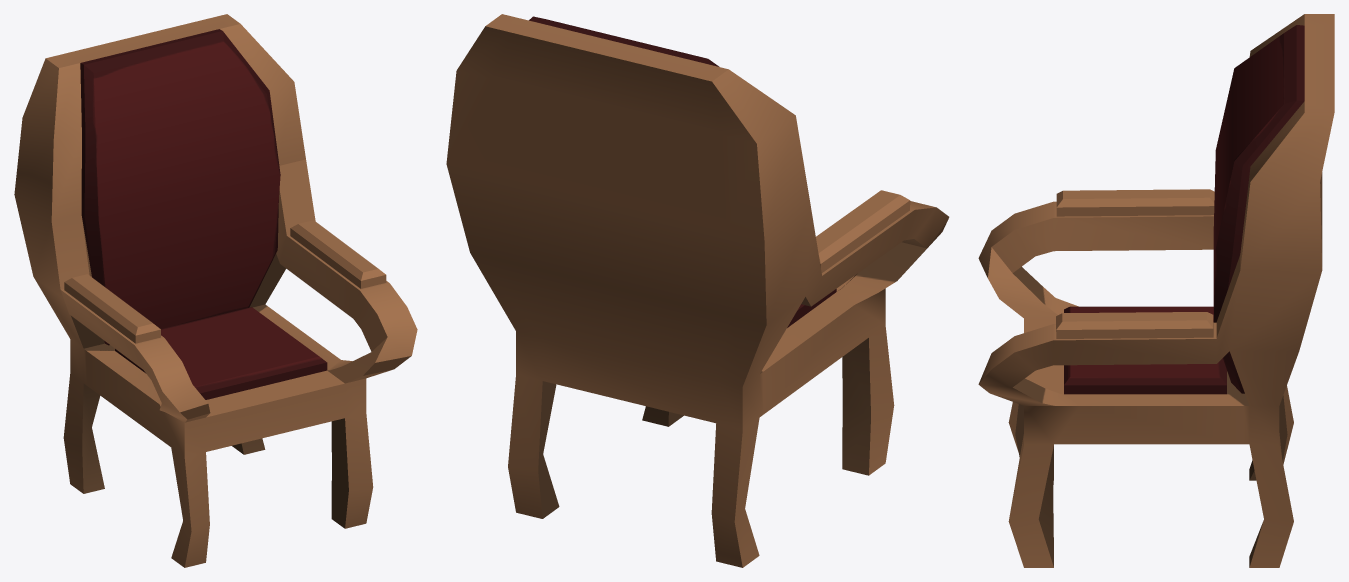
File: Chair_Style_Unwrapped.FBX
3 views of the same model, side by side, from view 1: azimuth 30°, elevation 25°; view 2: azimuth 150°, elevation 25°; view 3: azimuth 270°, elevation 25° (orthographic). The views are drawn at different scales.
Visible parts, largest first — view 1: Chair_2; view 2: Chair_2; view 3: Chair_2.
Boxes of the visible parts, x1=… form: Chair_2: x1=14, y1=14, x2=417, y2=567; Chair_2: x1=446, y1=14, x2=949, y2=567; Chair_2: x1=978, y1=14, x2=1334, y2=567.
Size of the model in its own units: 0.7717 by 1.18 by 0.8365.
